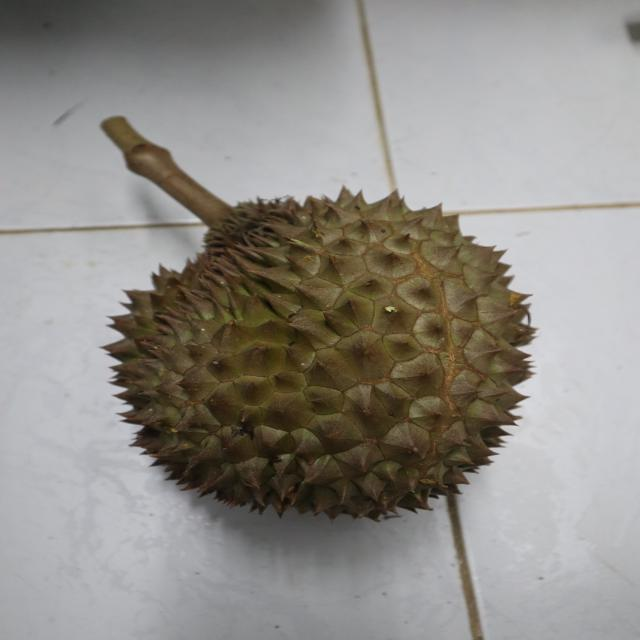mature: (98, 183, 535, 524)
